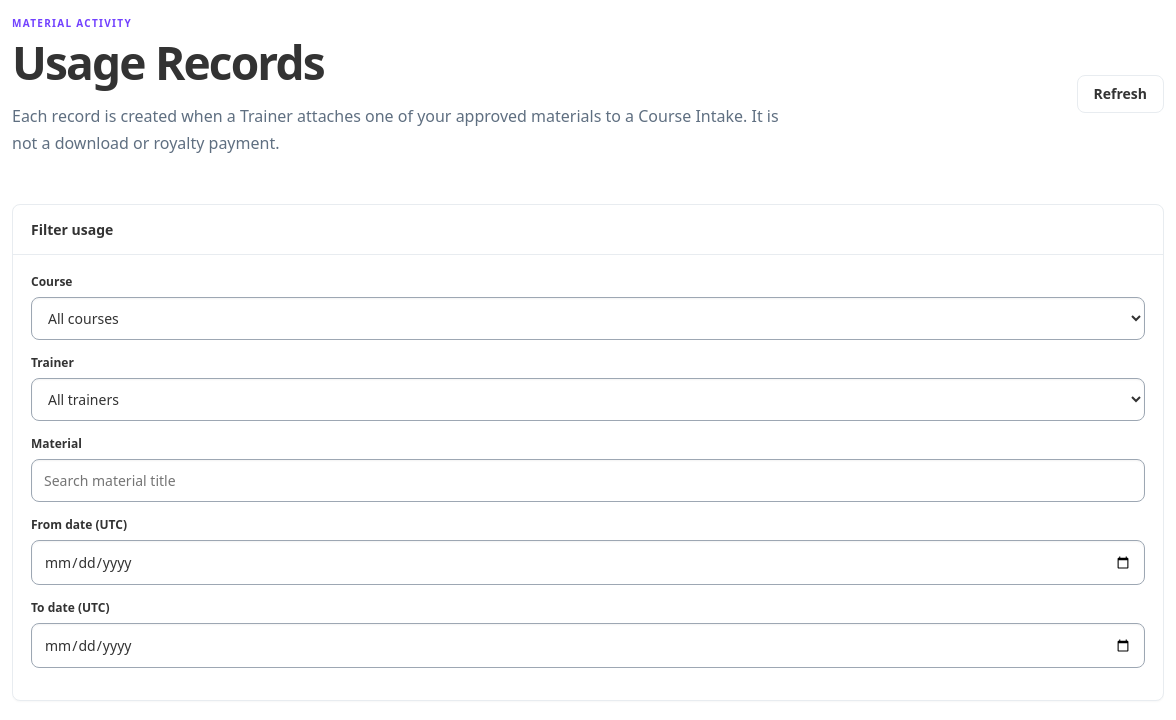
Test: labels filtered usage separately and offers to clear filters
Step 1. Type "missing" into the field labelled "Material" → [588, 481], box [31, 459, 1145, 502]
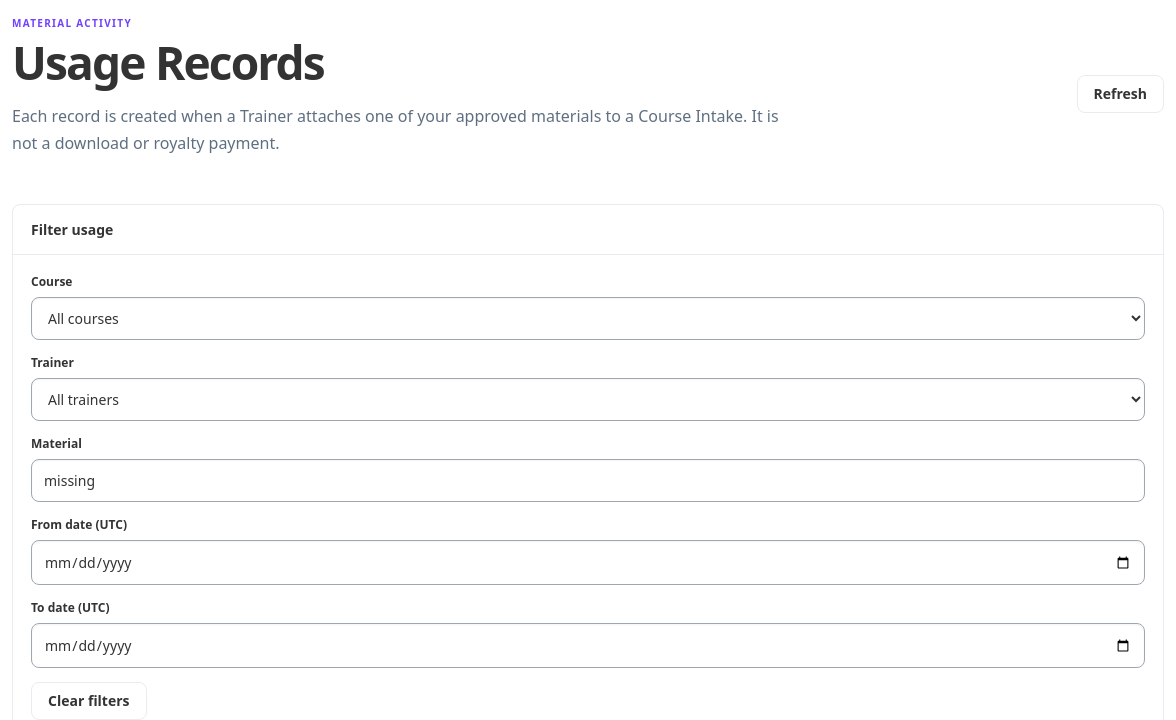
Check: the button "Clear filters" is shown, box [31, 682, 146, 719]
